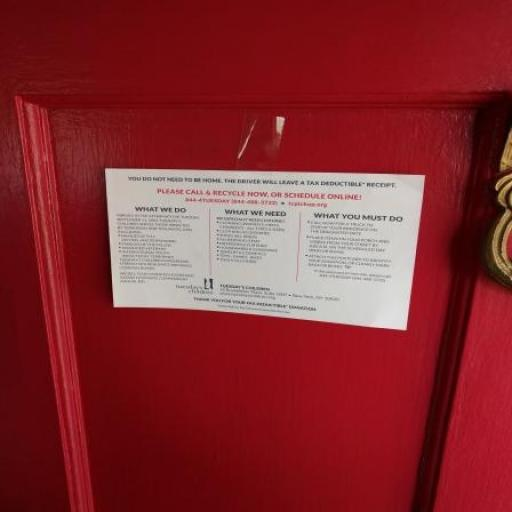paper: (42, 123, 484, 375)
